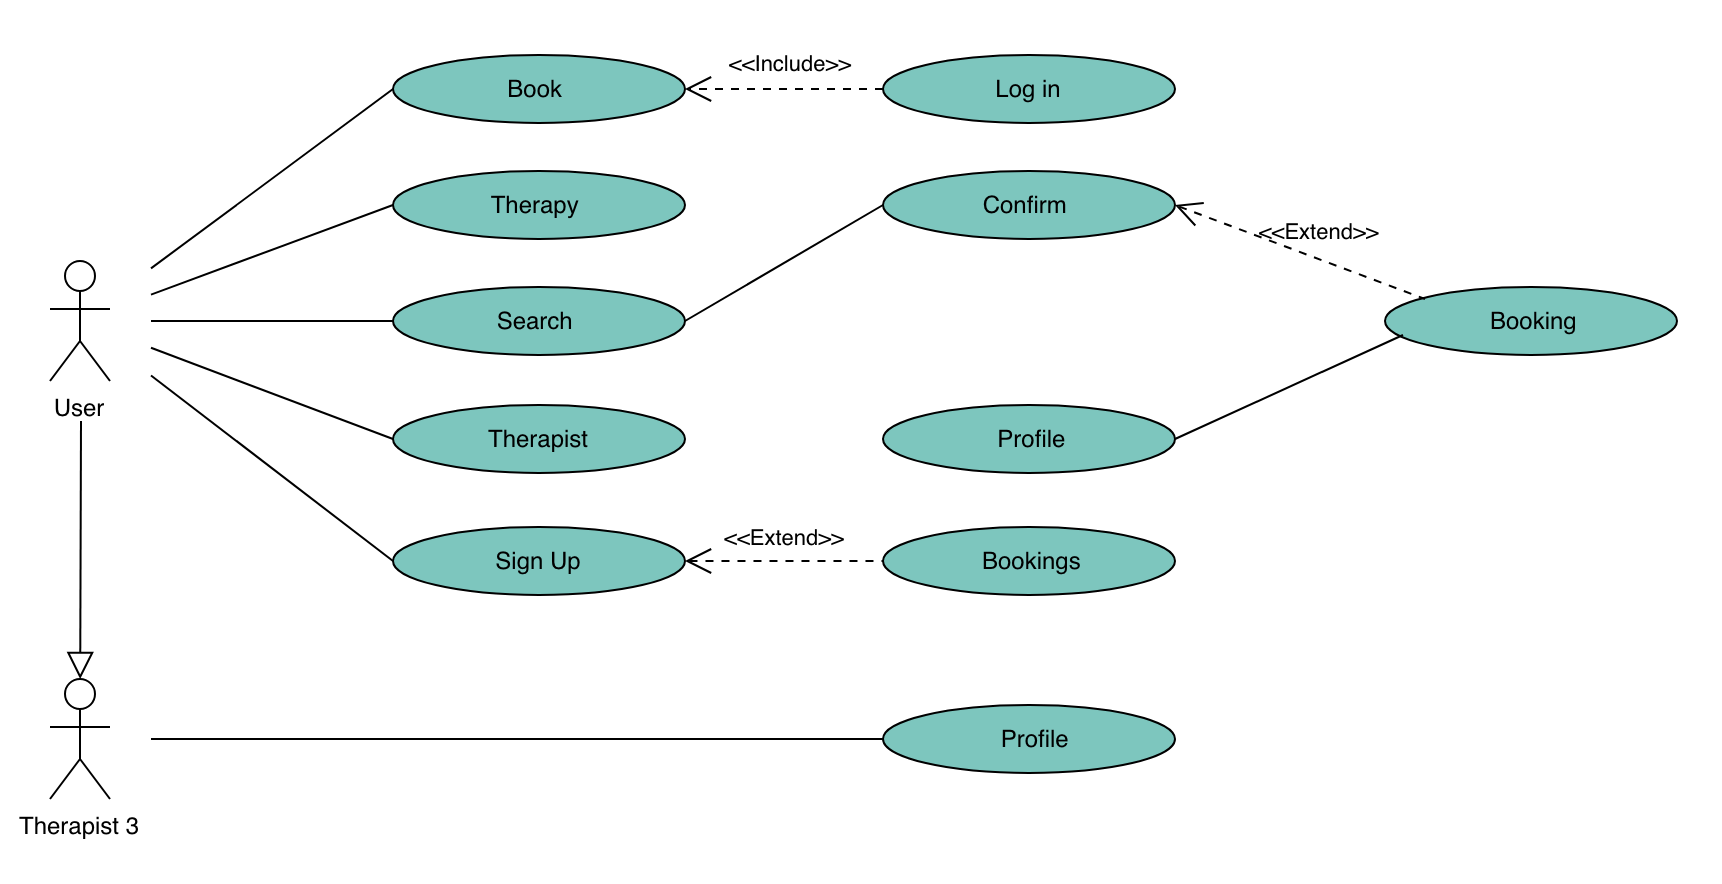actor: (43, 254, 118, 388), (51, 677, 117, 802)
association: (154, 375, 393, 565), (150, 91, 391, 271), (150, 710, 885, 767), (1177, 333, 1399, 442), (1175, 198, 1417, 299), (149, 343, 390, 440), (152, 200, 392, 295), (687, 203, 880, 321), (151, 302, 392, 341), (686, 540, 879, 583), (685, 69, 884, 107), (66, 423, 94, 678)
text: (18, 811, 156, 850), (480, 419, 604, 461), (485, 543, 602, 583), (973, 541, 1088, 580), (722, 520, 852, 551), (976, 68, 1072, 109), (1486, 301, 1582, 341), (722, 48, 861, 76), (489, 64, 576, 107), (486, 188, 592, 223), (483, 302, 583, 339), (989, 419, 1076, 456), (979, 191, 1076, 222), (1255, 220, 1385, 241), (996, 725, 1079, 753), (48, 394, 118, 424)
use_case: (394, 399, 689, 478), (881, 522, 1177, 600), (389, 524, 690, 600), (881, 167, 1182, 242), (387, 168, 689, 242), (391, 283, 689, 359), (389, 53, 689, 127), (882, 403, 1180, 477), (879, 52, 1177, 126), (1383, 285, 1679, 359), (884, 702, 1178, 776)
